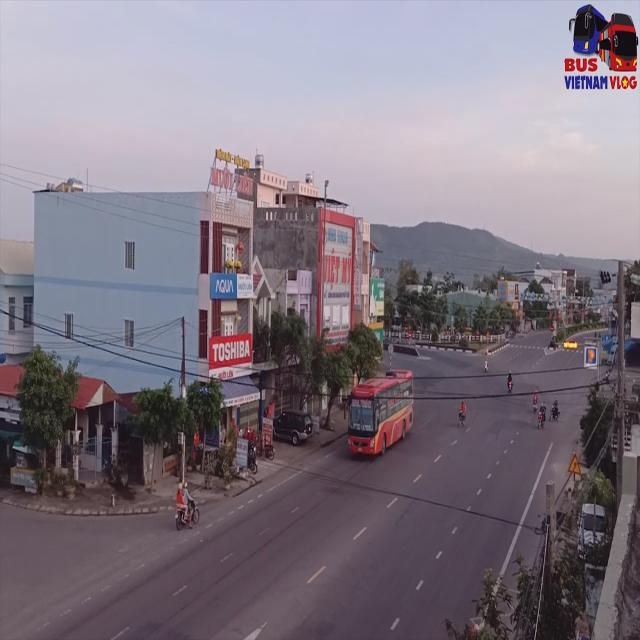bus: (344, 371, 412, 466)
motorbike: (174, 486, 200, 533), (536, 395, 546, 431), (457, 398, 468, 430)
